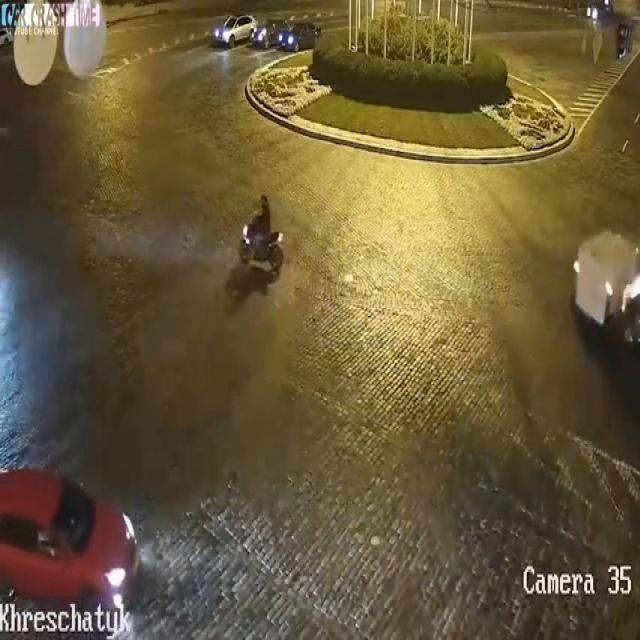Accident: (571, 208, 640, 411)
